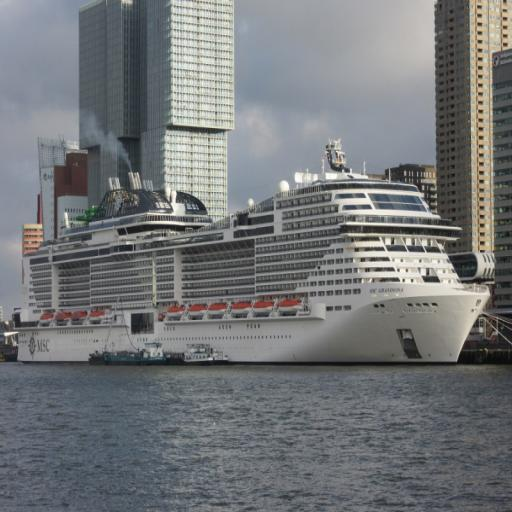cruises: (17, 136, 494, 373)
